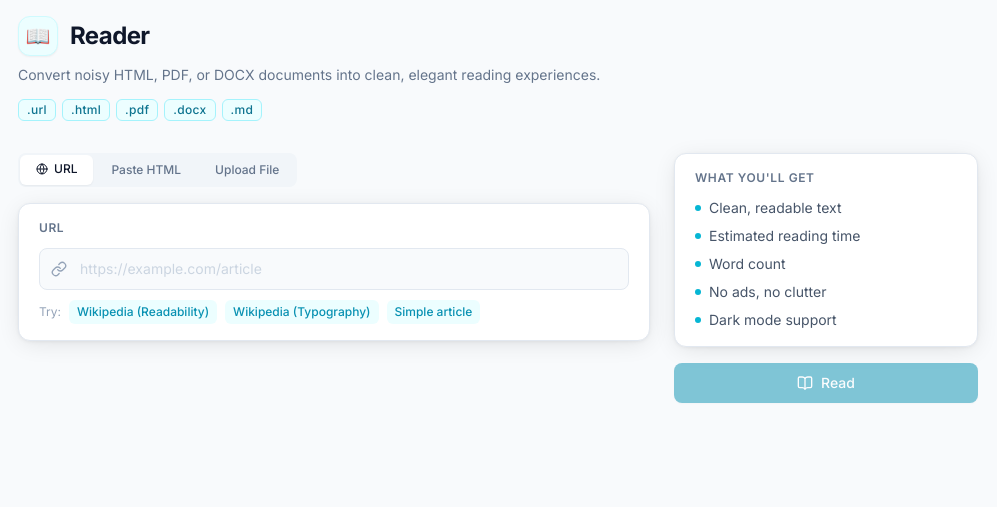
Test case: ReaderPage › switches to paste tab
What coordinates should you click on to do the following:
click the button "Paste HTML"
I would click on:
 (146, 170)
Its box is [96,155,197,185].
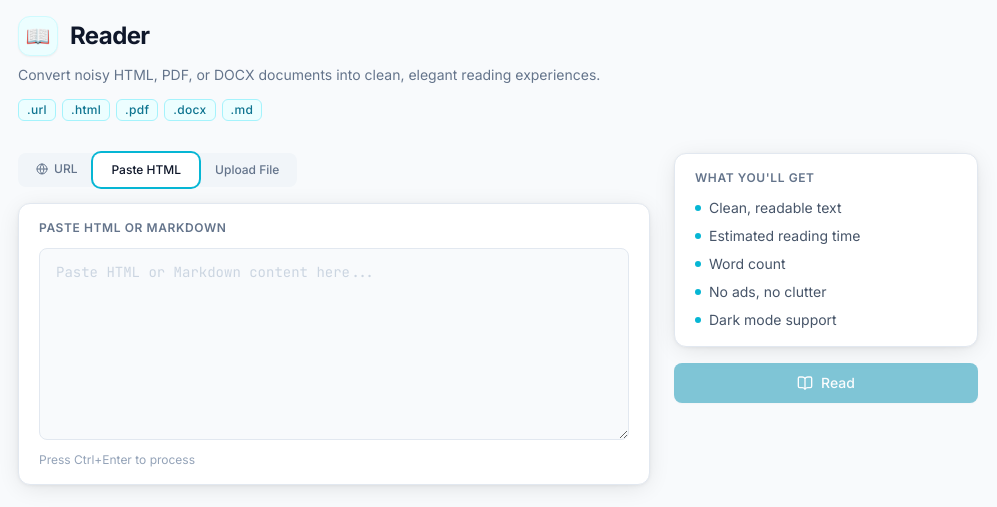
Expected: the text box with placeholder "Paste HTML or Markdown content here..." is shown, [39,248,629,440]
